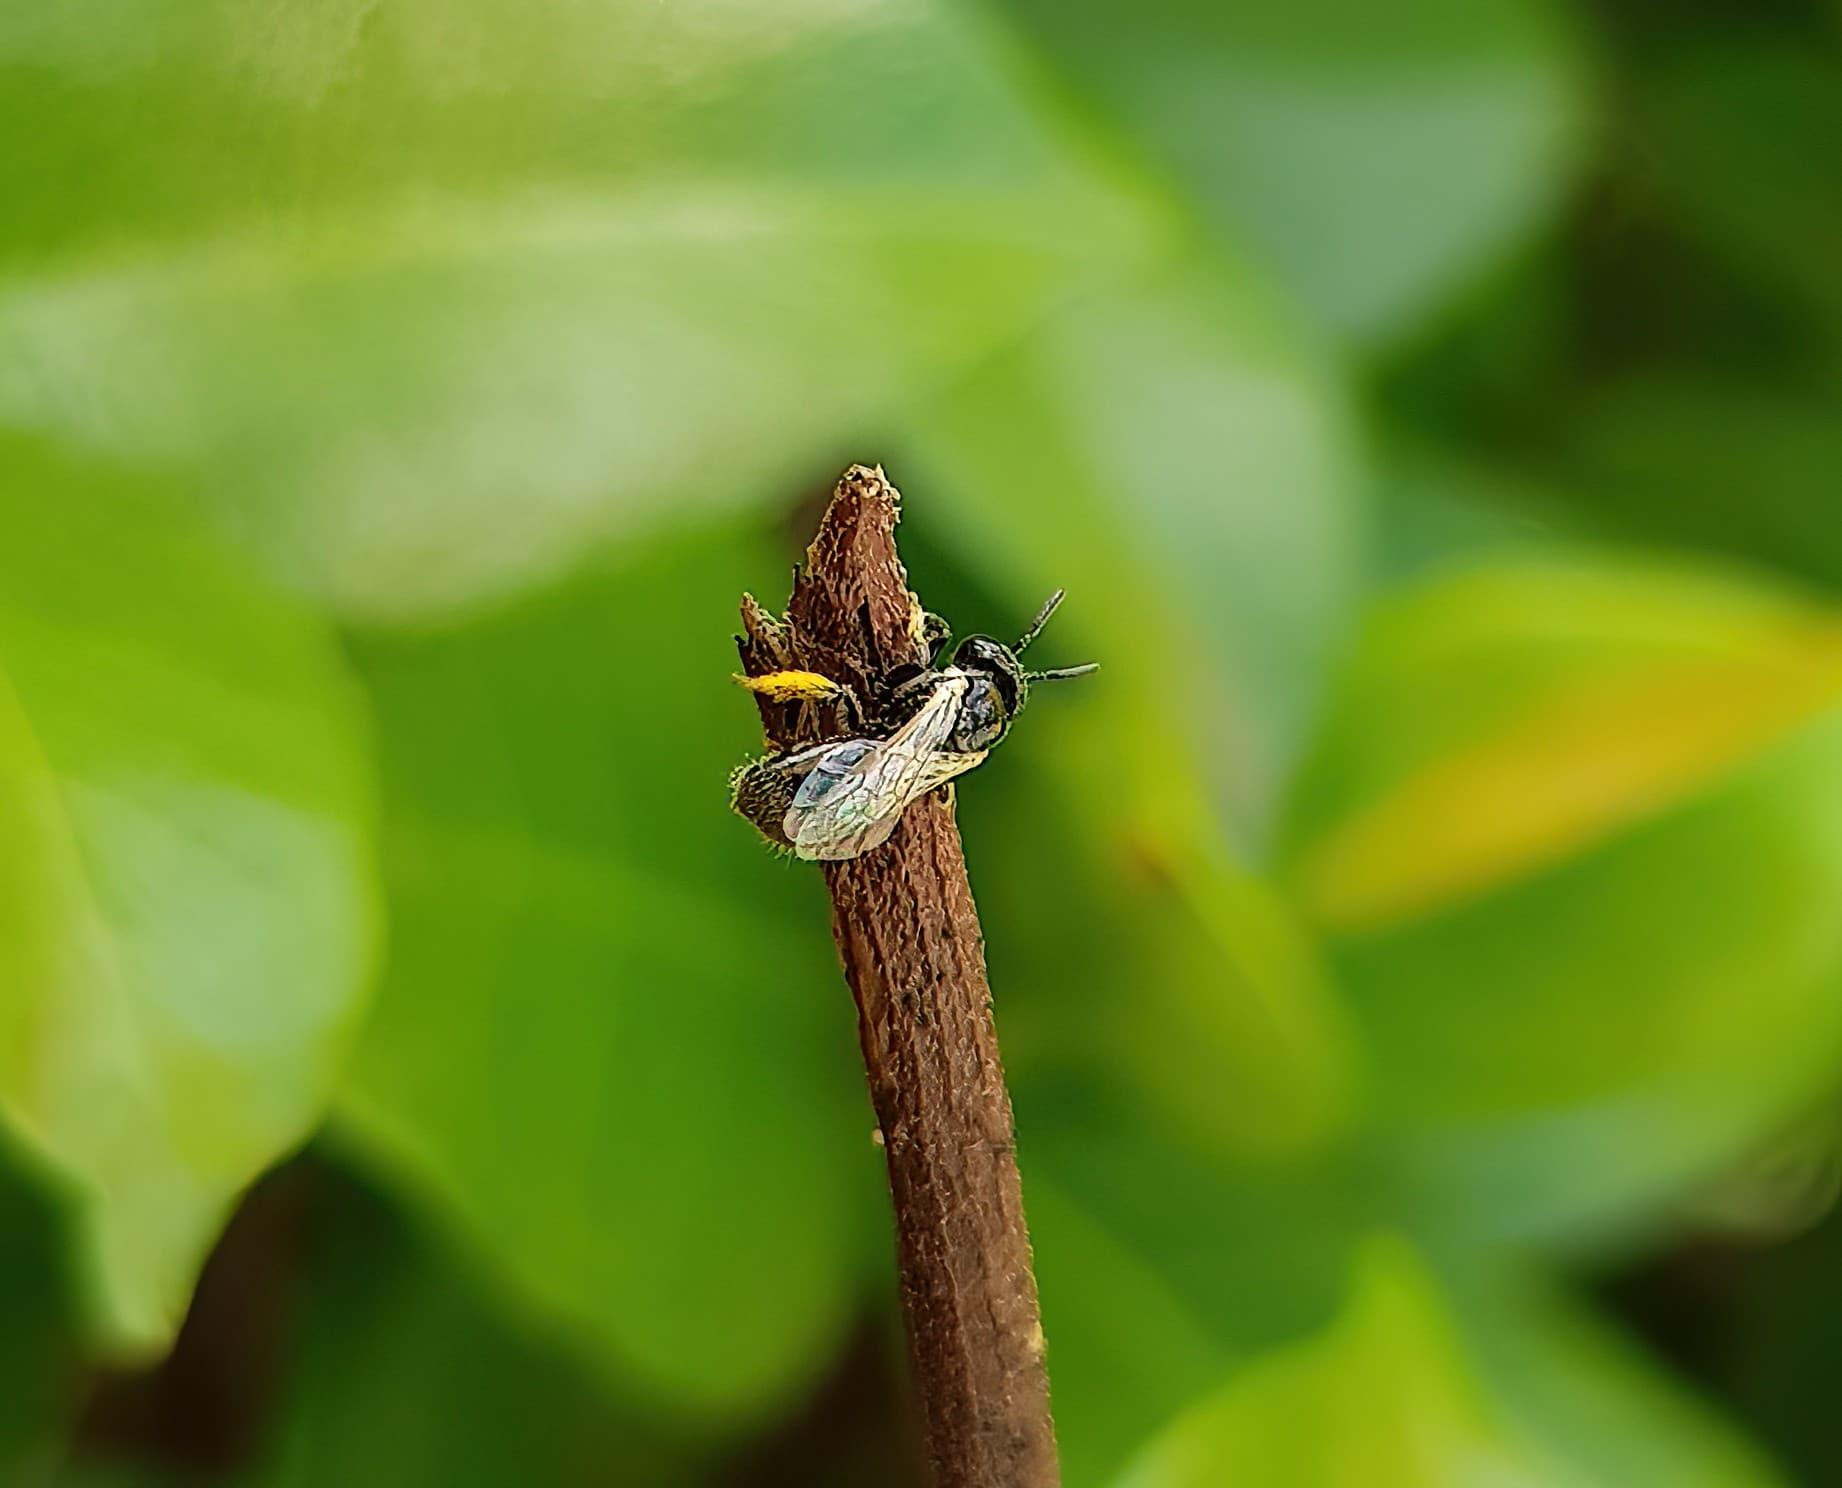Braunsapis: (721, 591, 1075, 903)
